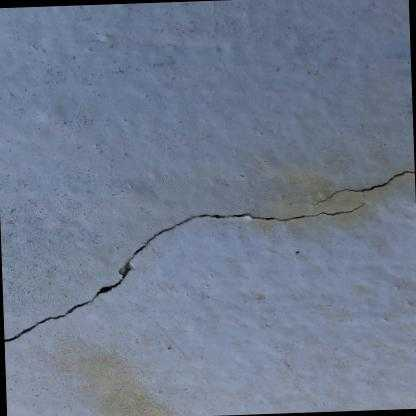crack: (4, 201, 367, 341), (310, 169, 415, 205)
